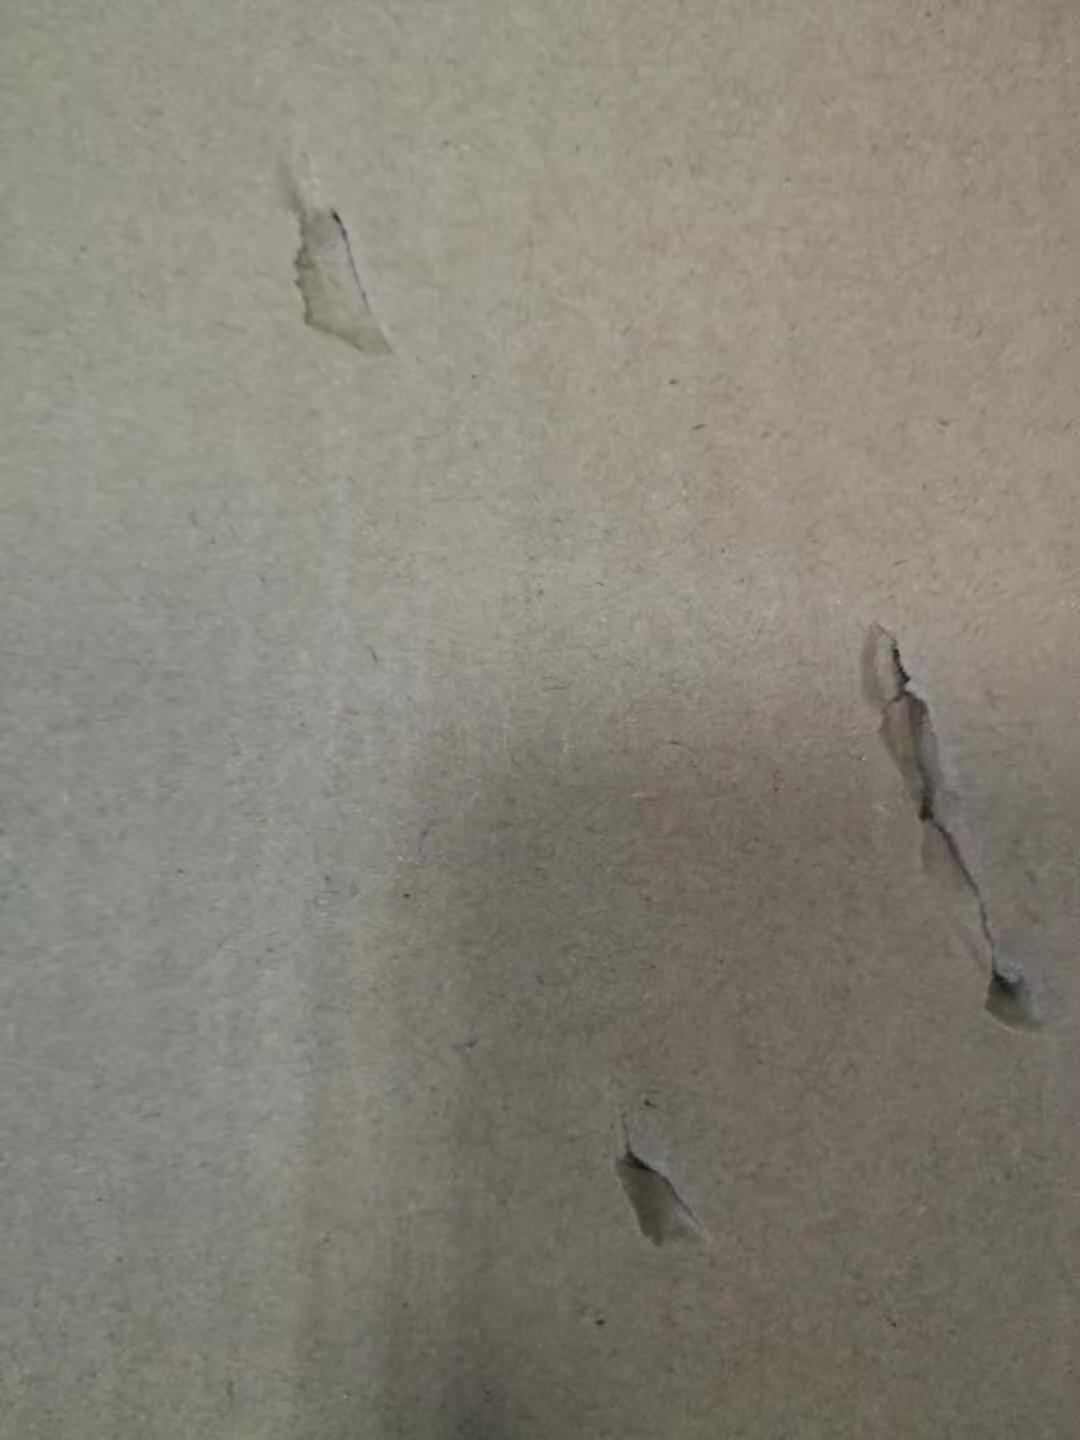defect: (825, 581, 1080, 1077), (251, 116, 440, 407), (579, 1085, 737, 1284)
